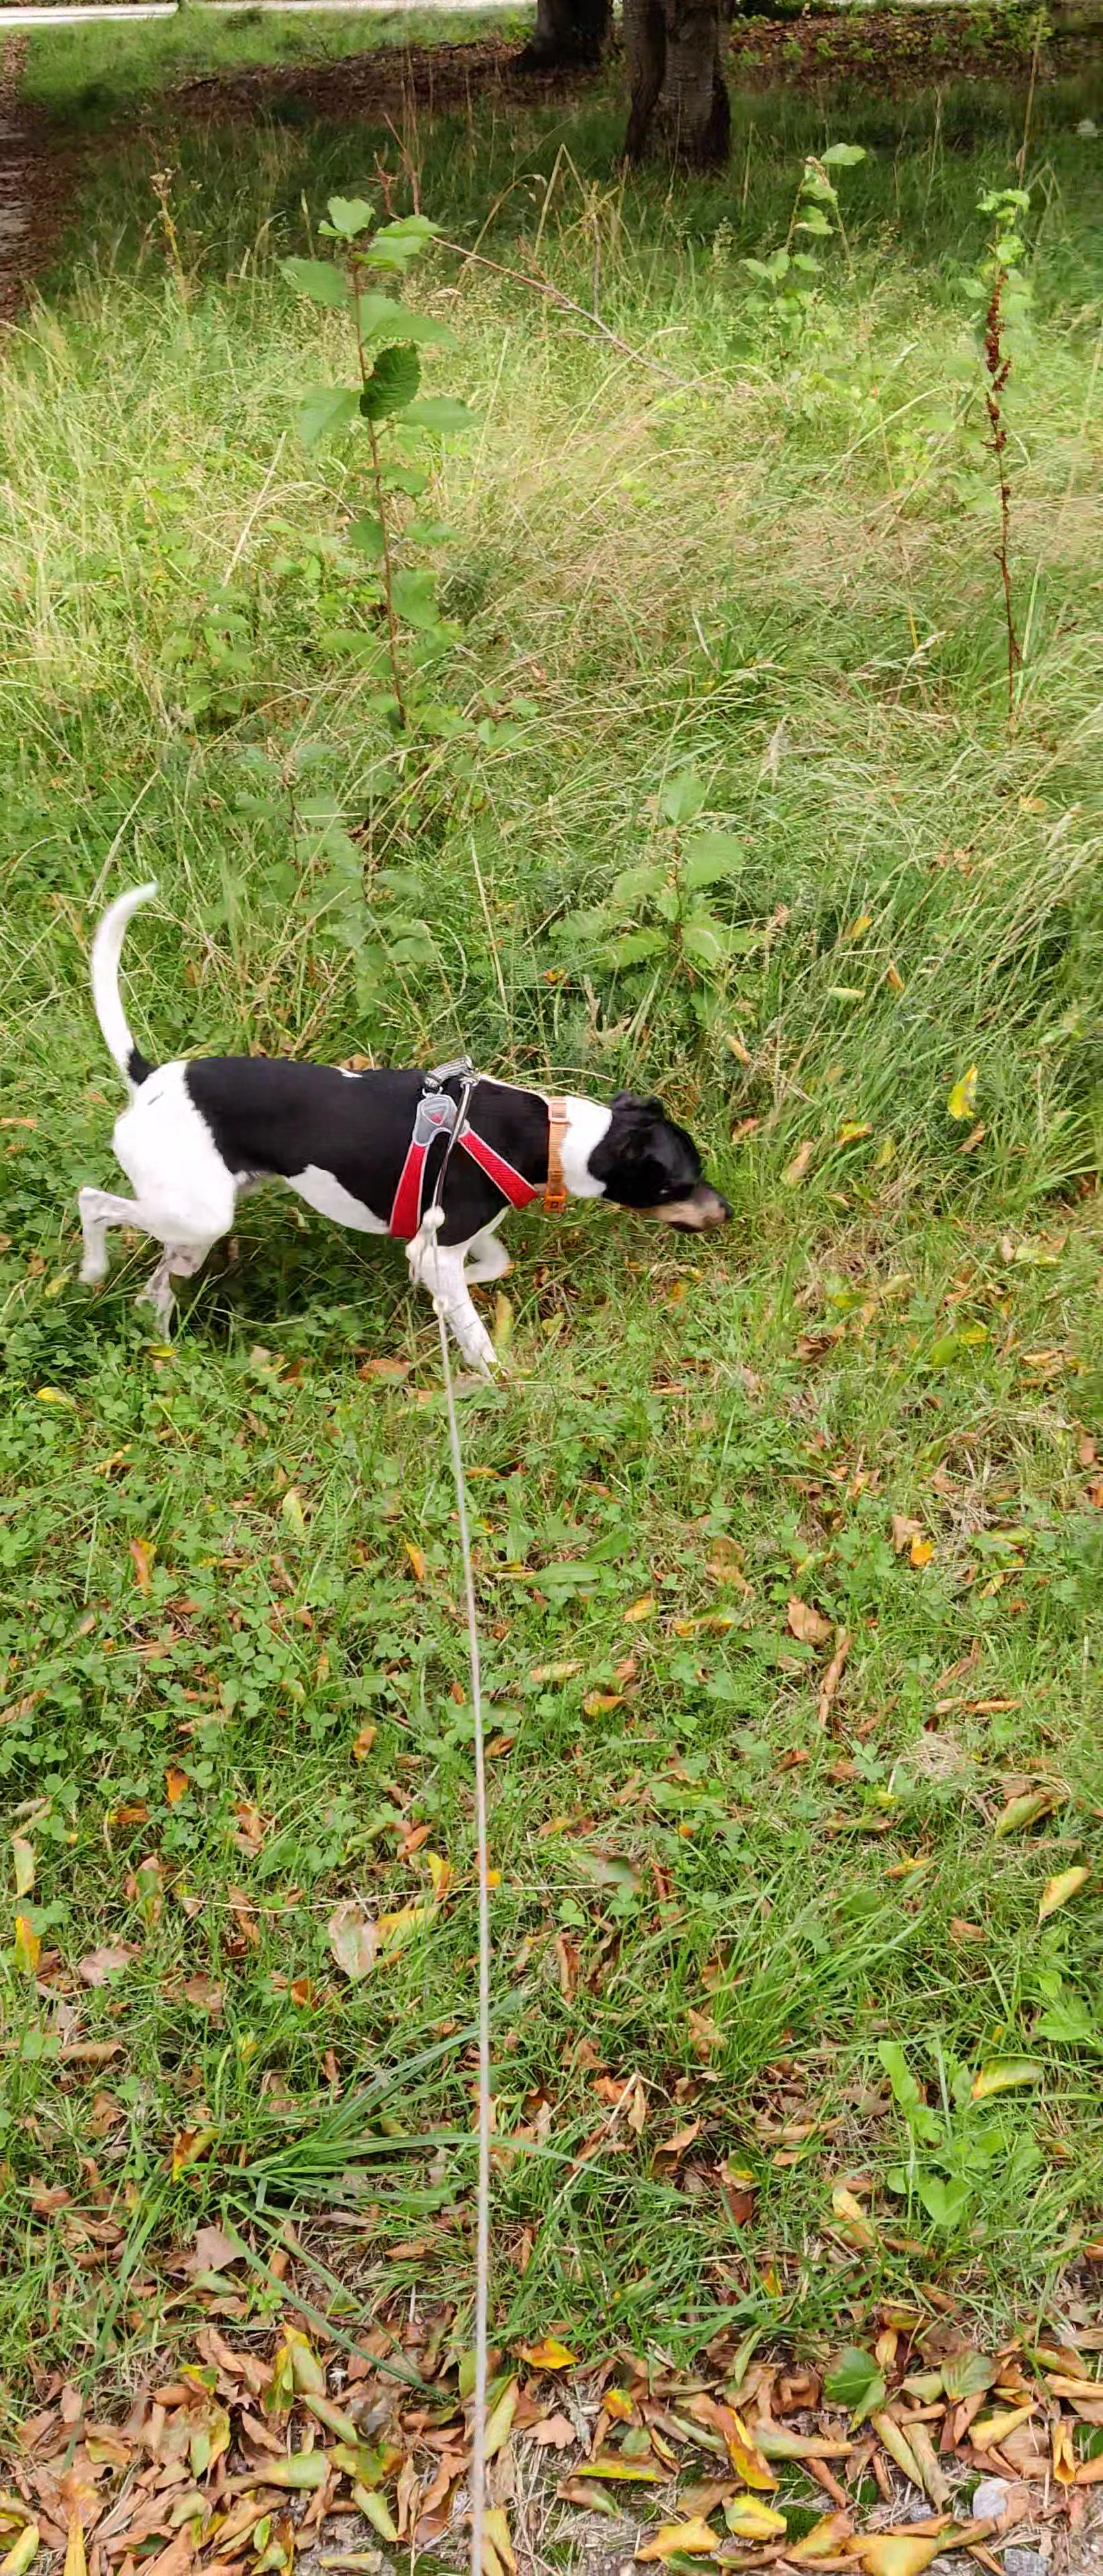Dog: (51, 846, 756, 1405)
